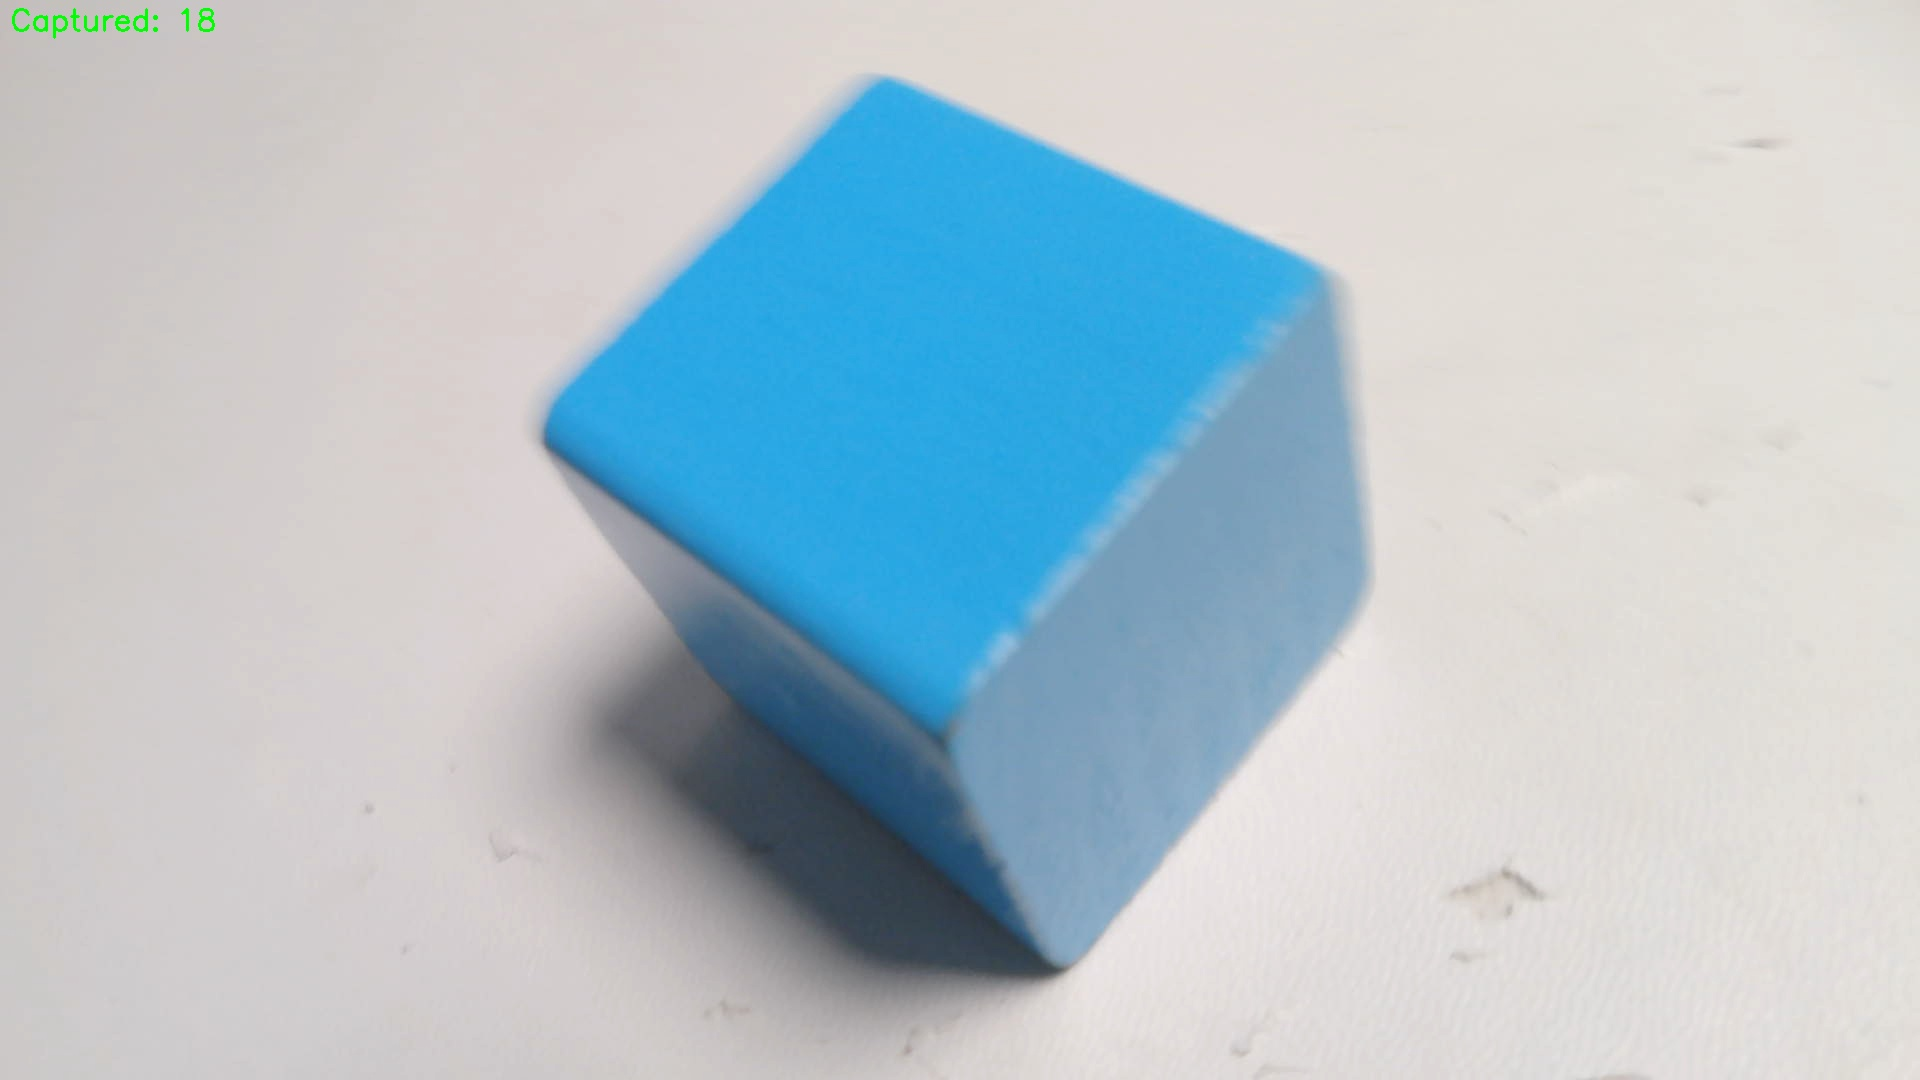blue: (554, 76, 1378, 977)
